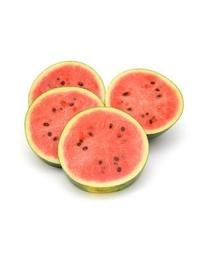watermelon: (20, 59, 186, 192)
